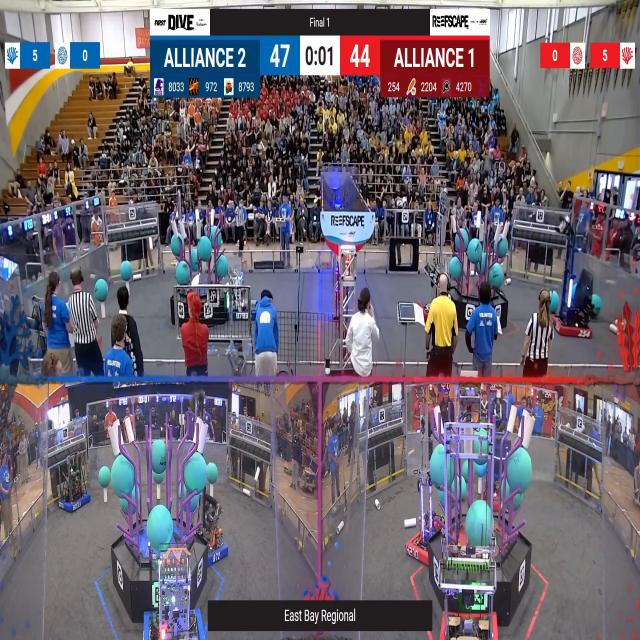scoreboard: (150, 35, 488, 98)
